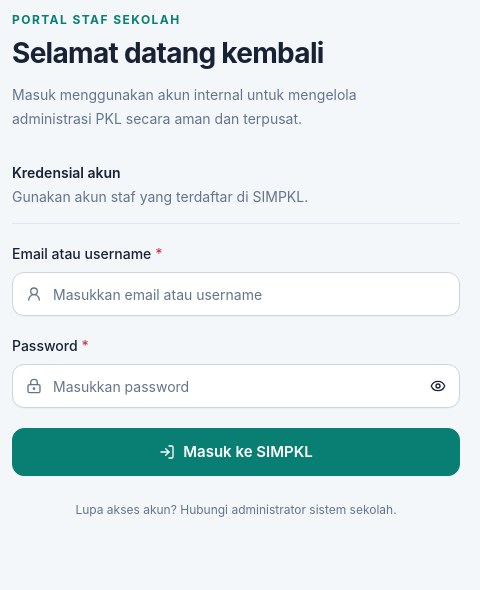
Test: LoginPage › shows accessible validation messages
Click the button "Masuk ke SIMPKL". click: (236, 452)
box: [12, 428, 460, 476]
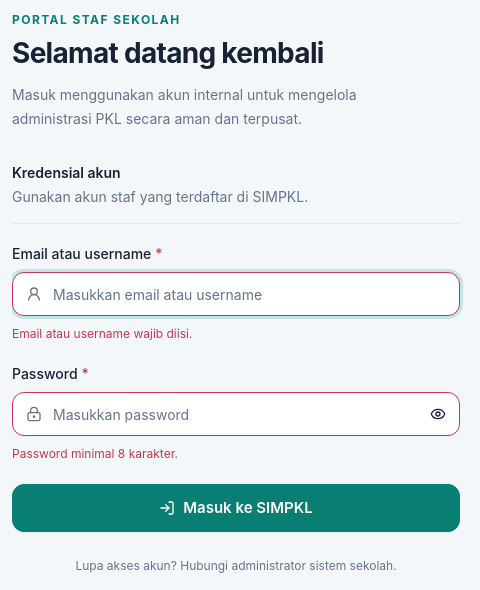
Now the text "Email atau username wajib diisi." is shown, box [12, 326, 192, 341]
Now the text "Password minimal 8 karakter." is shown, box [12, 446, 178, 461]
